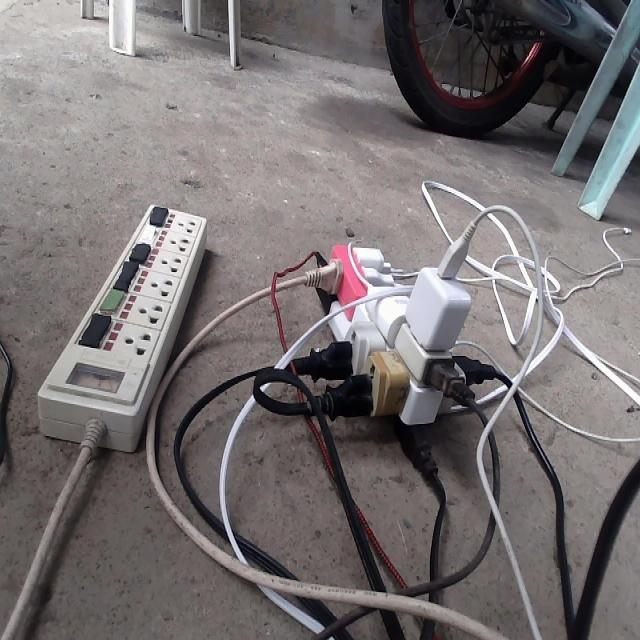-: (292, 217, 502, 447)
